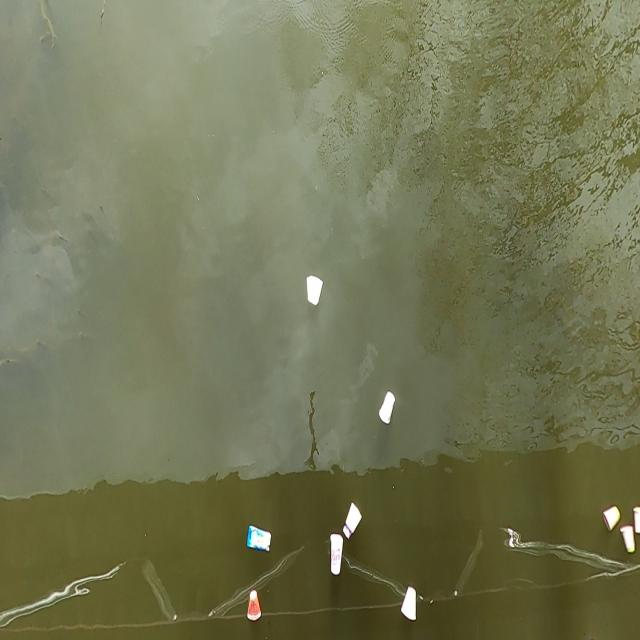Non plastique: (240, 522, 278, 556), (397, 580, 422, 629), (241, 589, 266, 627), (377, 385, 398, 430), (327, 529, 346, 578), (304, 274, 325, 310), (342, 502, 361, 540), (599, 504, 620, 535), (618, 523, 634, 559)
